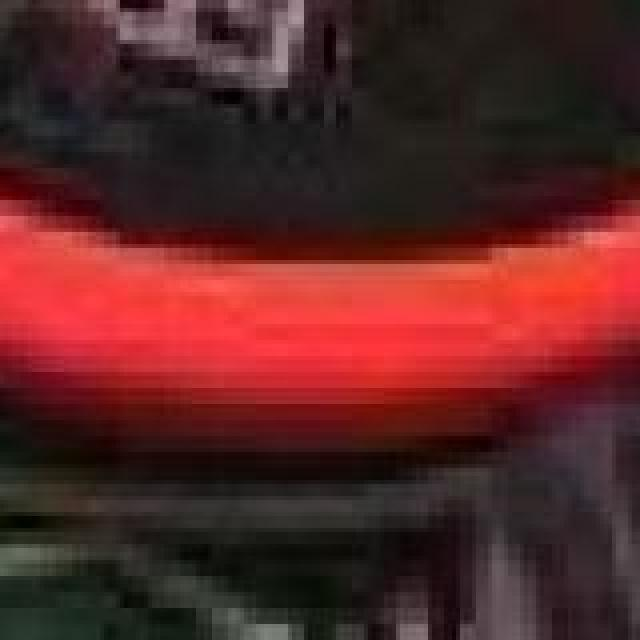battery: (0, 0, 640, 404)
